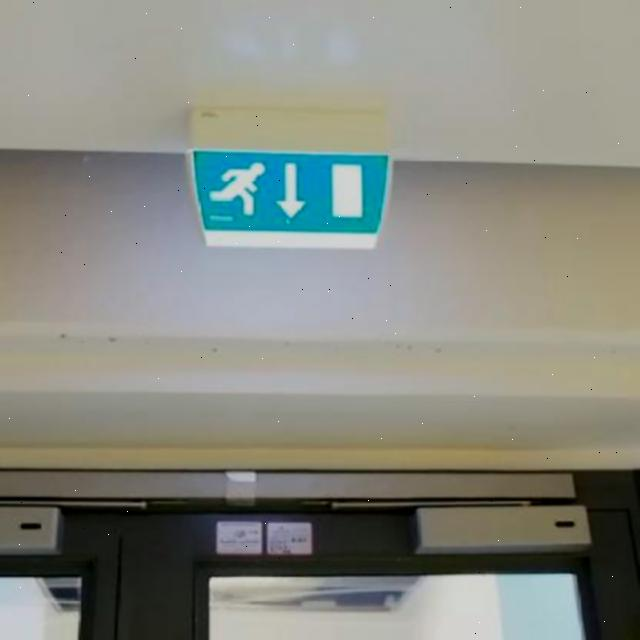emergency_exit: (186, 147, 393, 250)
